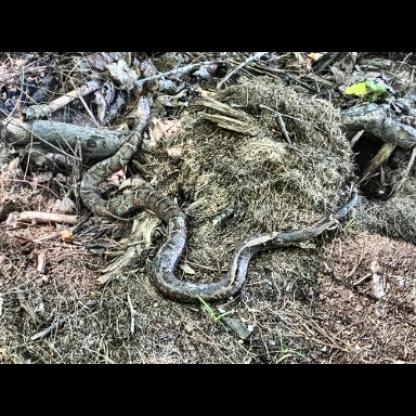Snake: (72, 94, 361, 307)
